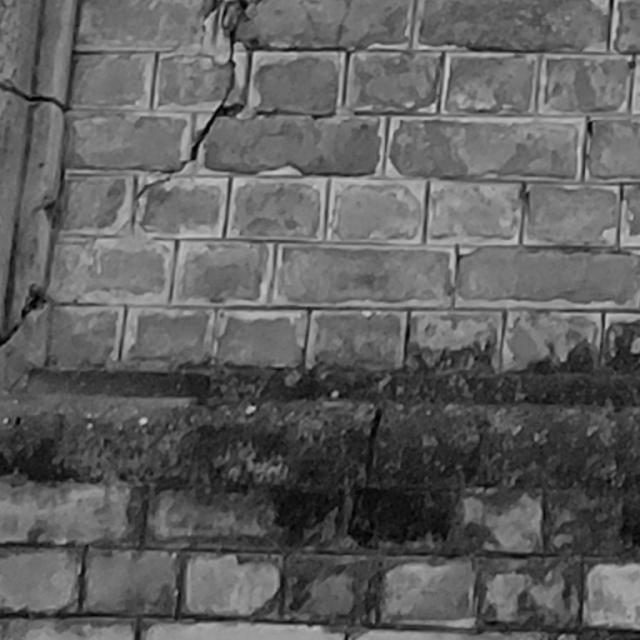crack: (130, 1, 262, 201)
